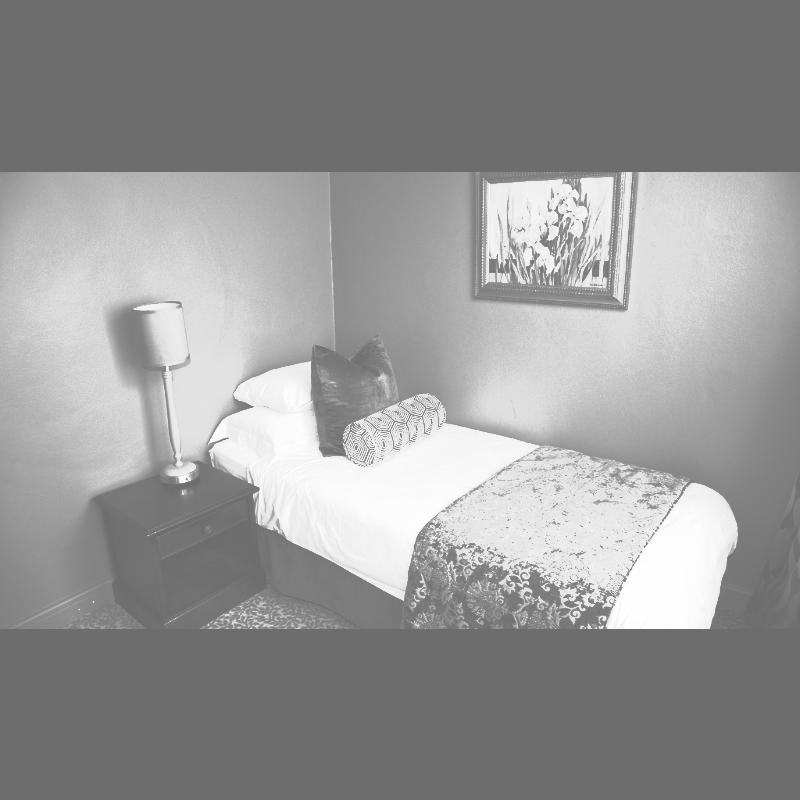pillow: (300, 326, 396, 446), (206, 410, 316, 460), (234, 359, 315, 415)
